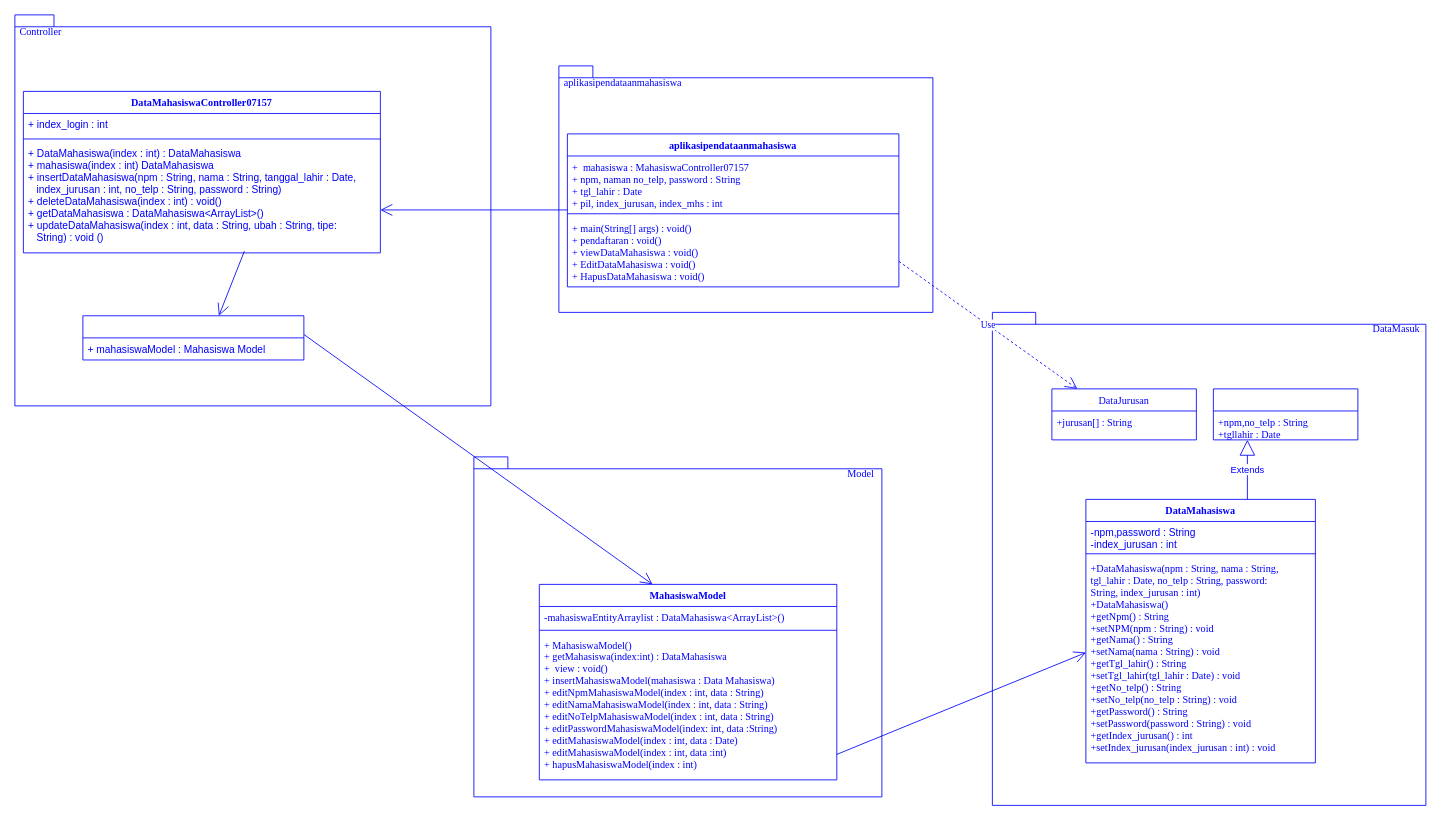
The diagram is 1441 pixels wide and 820 high, and some of its shapes have lost their labels. Here are the shapes that lost their labels. From the top down, the box of each, then its label:
(82, 315, 304, 360): AllObjectModel07157
(1213, 388, 1358, 440): Manusia
